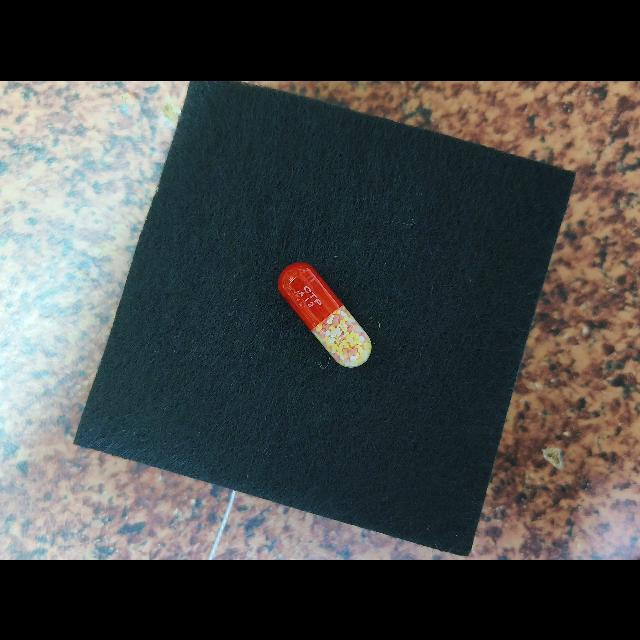Intact Capsule: (278, 261, 371, 367)
